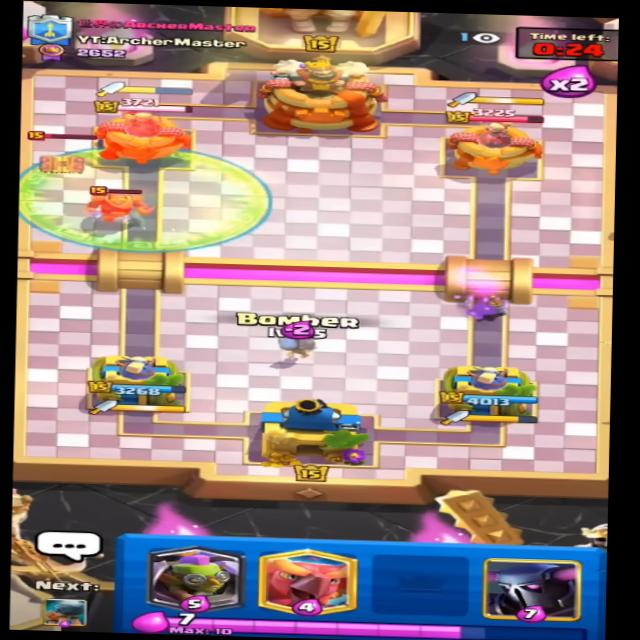Knight: (86, 183, 154, 219)
Teslahidden: (21, 127, 104, 183)
